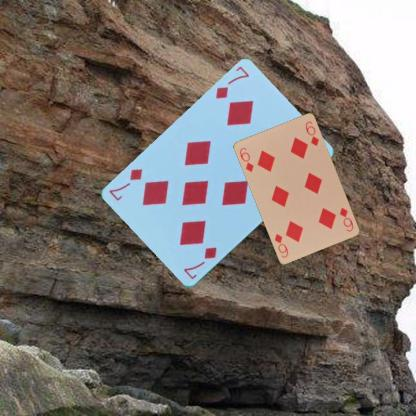6d: (237, 145, 256, 173), (337, 205, 355, 233)
7d: (181, 244, 218, 282), (212, 64, 250, 101)
